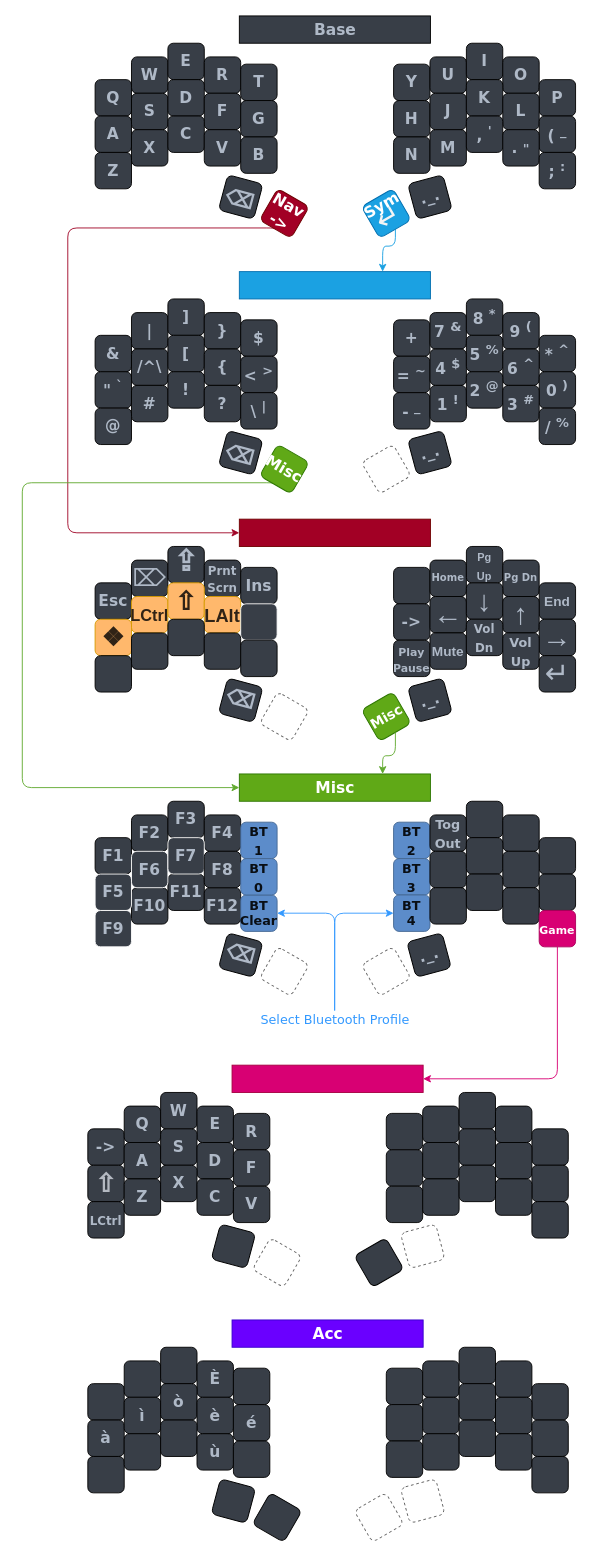
This 592x1559 diagram has some shape labels left out. The shapes that lost their labels are listed below. From the top down, each one's centre as x and y in pixels, then its label:
At (x=334, y=285): "Sym".
At (x=334, y=532): "Nav".
At (x=327, y=1078): "Gaming".
